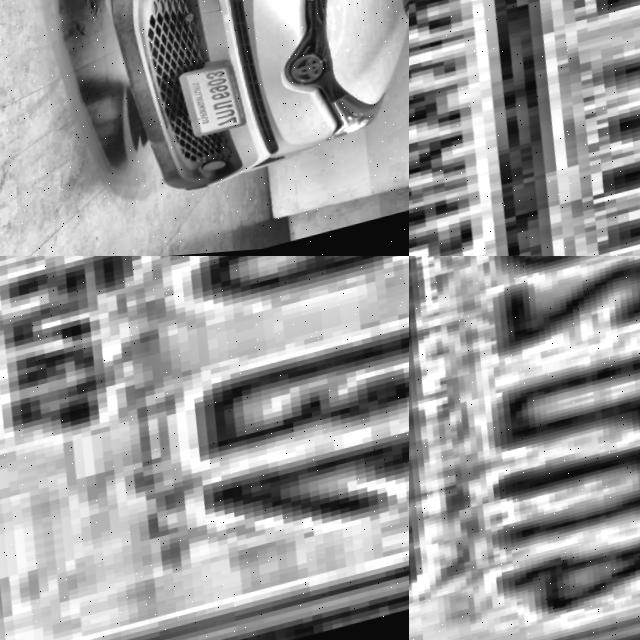license-plate: (0, 256, 409, 640), (409, 256, 640, 640), (409, 0, 640, 256), (174, 53, 267, 152)
